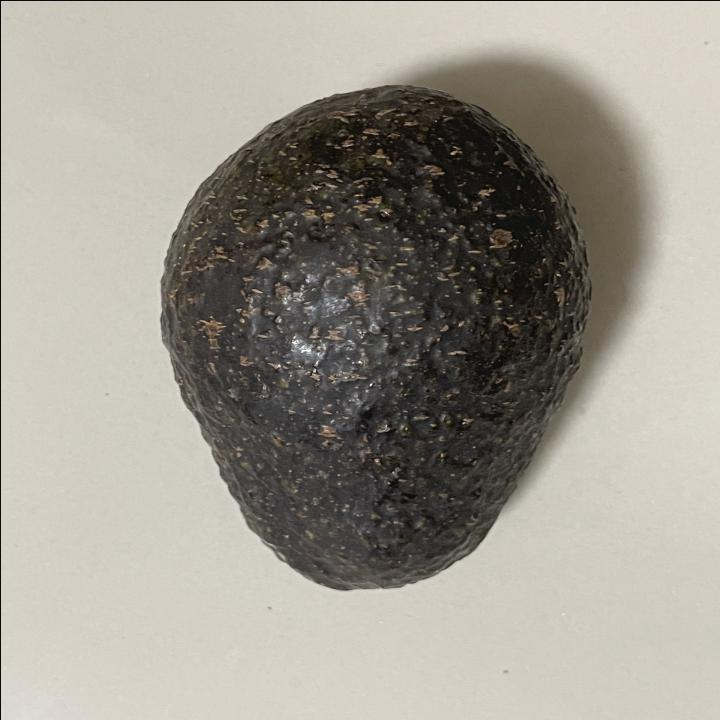Level1: (147, 71, 604, 604)
